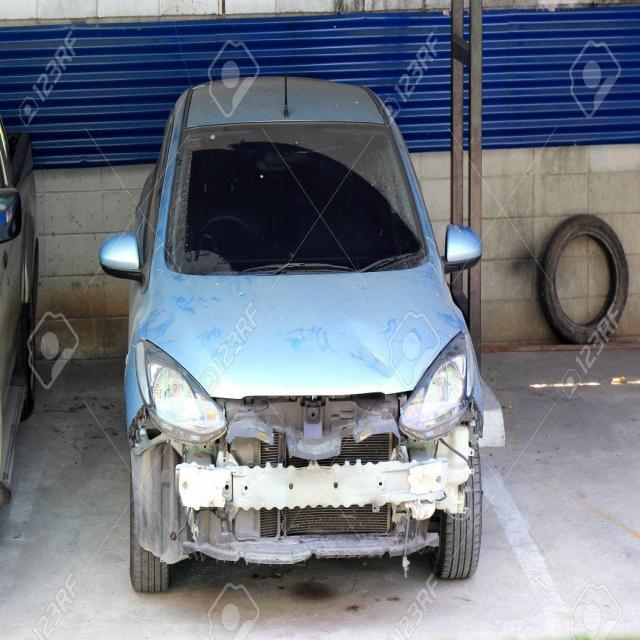damaged: (134, 389, 476, 561)
